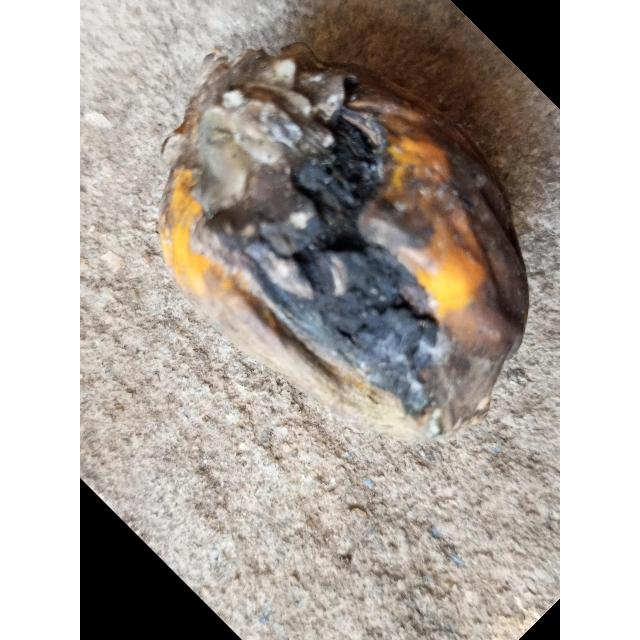damaged: (156, 8, 531, 449)
